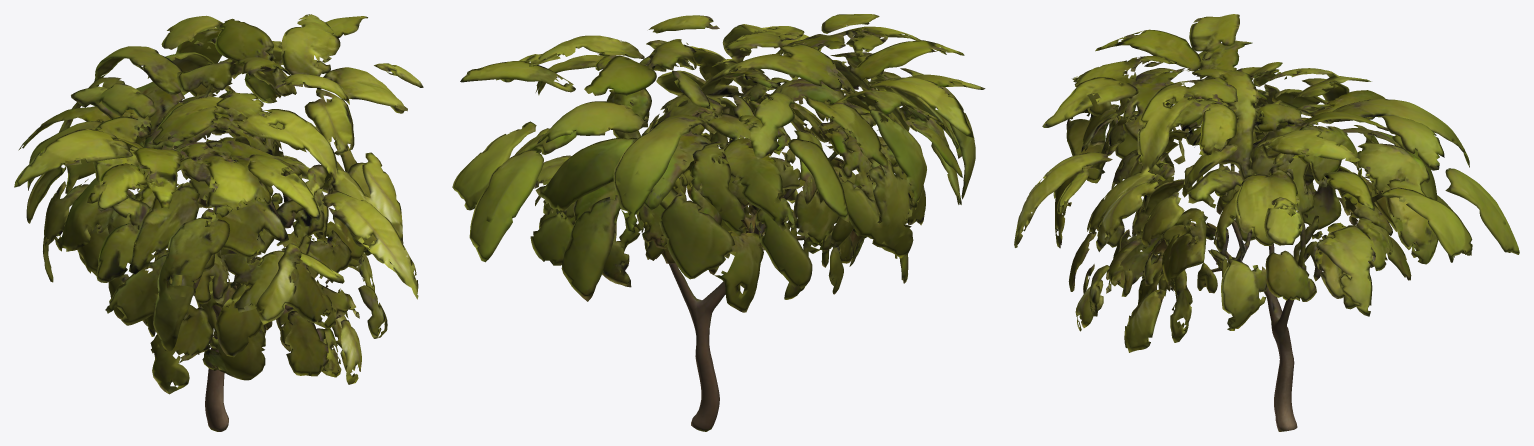
Rendered from Cardamom.glb.
3 views of the same model, side by side, from view 1: azimuth 30°, elevation 25°; view 2: azimuth 150°, elevation 25°; view 3: azimuth 270°, elevation 25° (orthographic). The views are drawn at different scales.
Bounding box in the file's own units: 1.86 × 1.5 × 2.
Materials: 1 (1 with a texture image).
